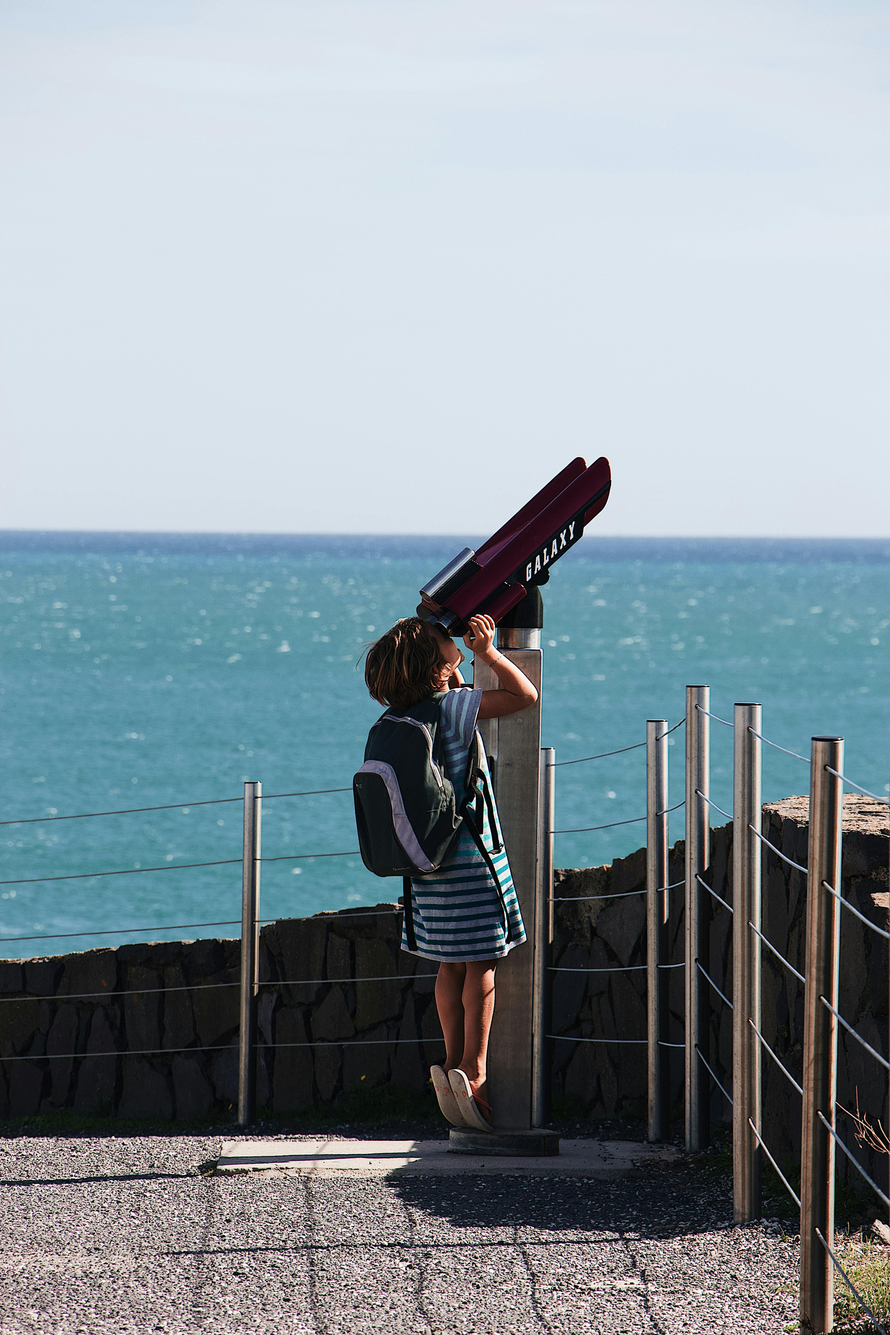Human: (305, 616, 578, 1156)
